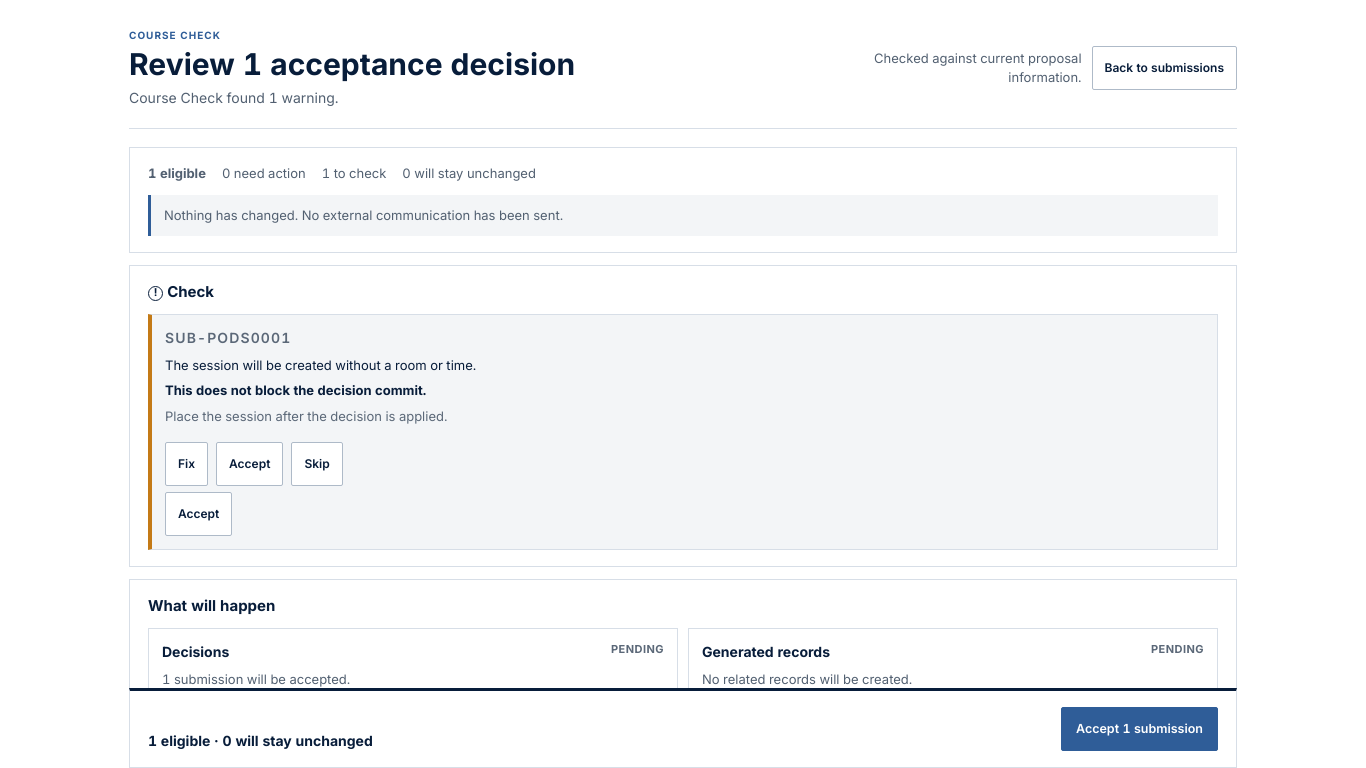
Course Check review workspace › keeps the truthful decision receipt visible and leaves draft creation separate
What coordinates should you click on to do the following:
click the button "Accept 1 submission"
I would click on:
 (1140, 729)
Its box is [1061, 707, 1218, 751].
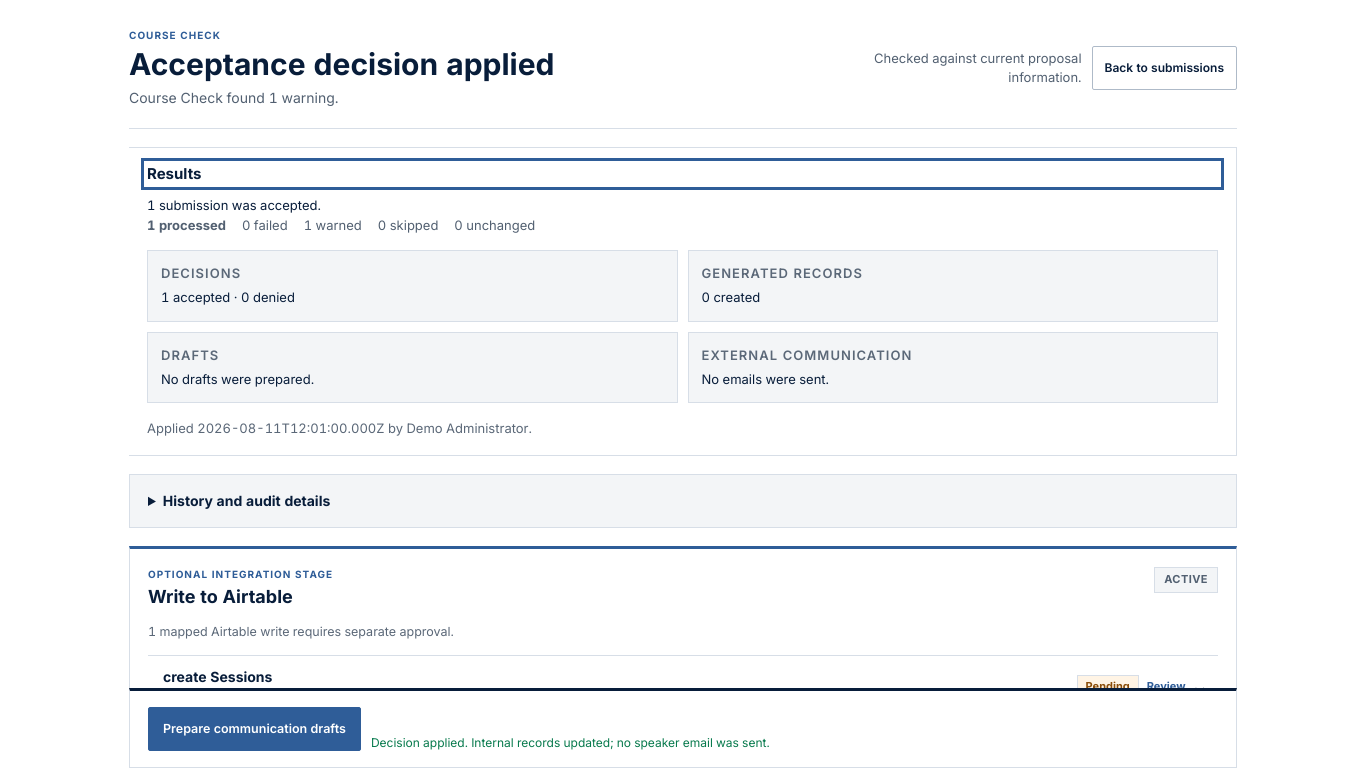
Expected: the heading "Acceptance decision applied" is shown, [129, 46, 554, 82]
Expected: the text "1 submission was accepted." is shown, [147, 197, 321, 213]
Expected: the text "No drafts were prepared." is shown, [161, 371, 314, 387]
